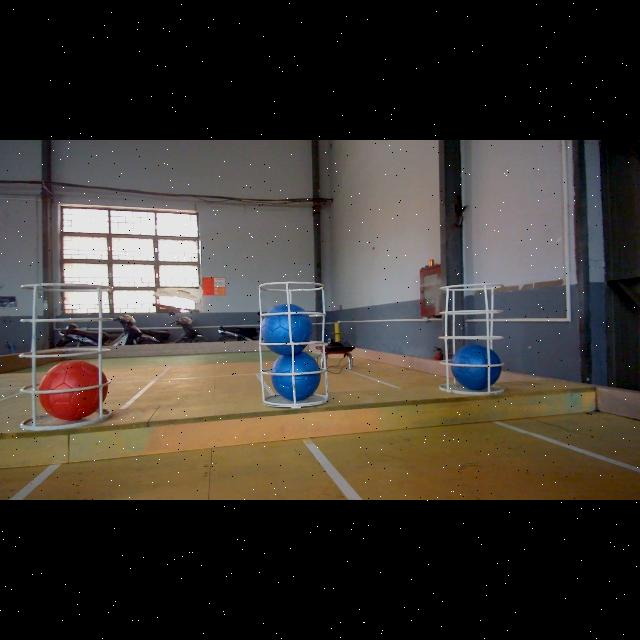B: (262, 303, 312, 355), (272, 352, 321, 401), (451, 344, 501, 390)
R: (36, 360, 108, 420)
